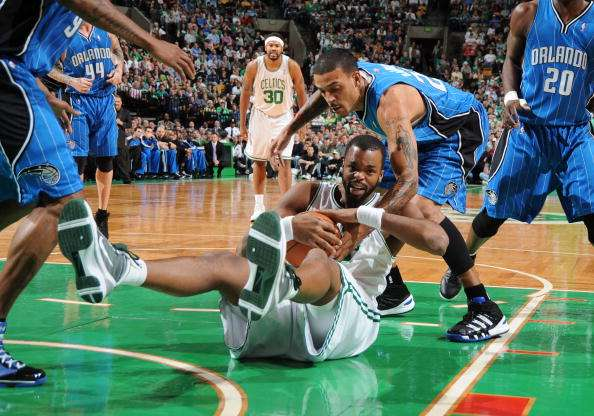10+: (3, 1, 594, 380)
down: (56, 124, 448, 364)
